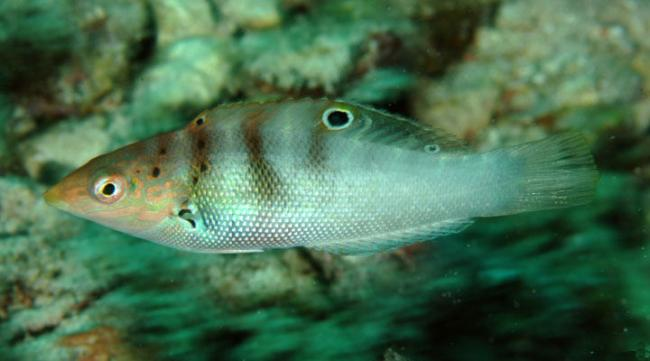fish: (44, 96, 599, 253)
